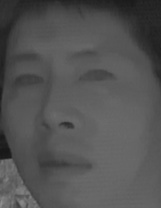eye: (11, 72, 46, 94), (80, 65, 115, 86)
mouth: (38, 147, 92, 182)
